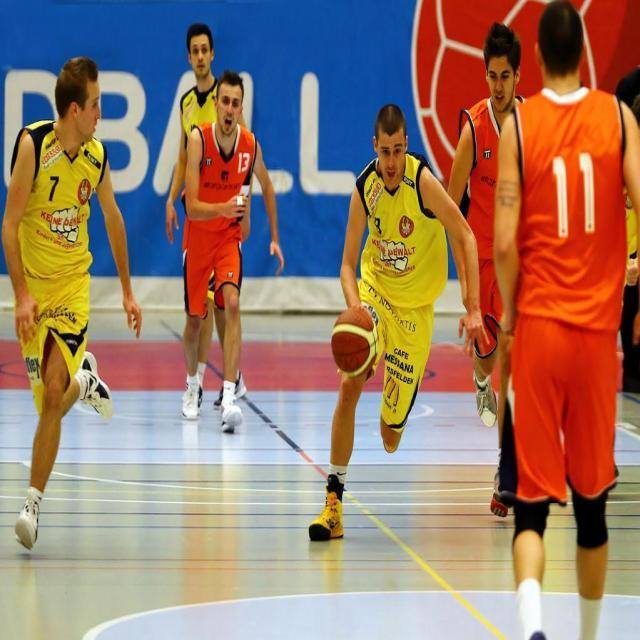rim: (331, 306, 376, 376)
